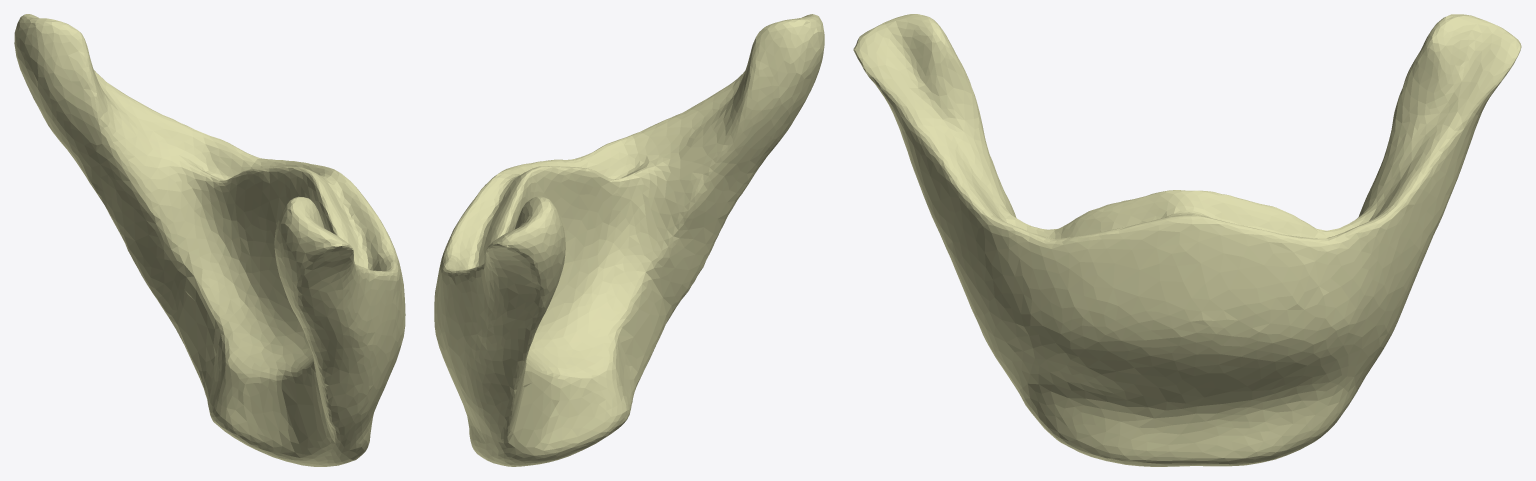
3 renders of one model, left to right at view 1: azimuth 30°, elevation 25°; view 2: azimuth 150°, elevation 25°; view 3: azimuth 270°, elevation 25°, orthographic. The views are drawn at different scales.
Parts seen in each view (by area): view 1: 1091.obj; view 2: 1091.obj; view 3: 1091.obj.
Boxes of the visible parts, bbox=[...] form: 1091.obj: bbox=[14, 14, 405, 466]; 1091.obj: bbox=[434, 14, 824, 466]; 1091.obj: bbox=[853, 14, 1521, 466].
Size of the model in its own units: 2270 by 3646 by 5778.
